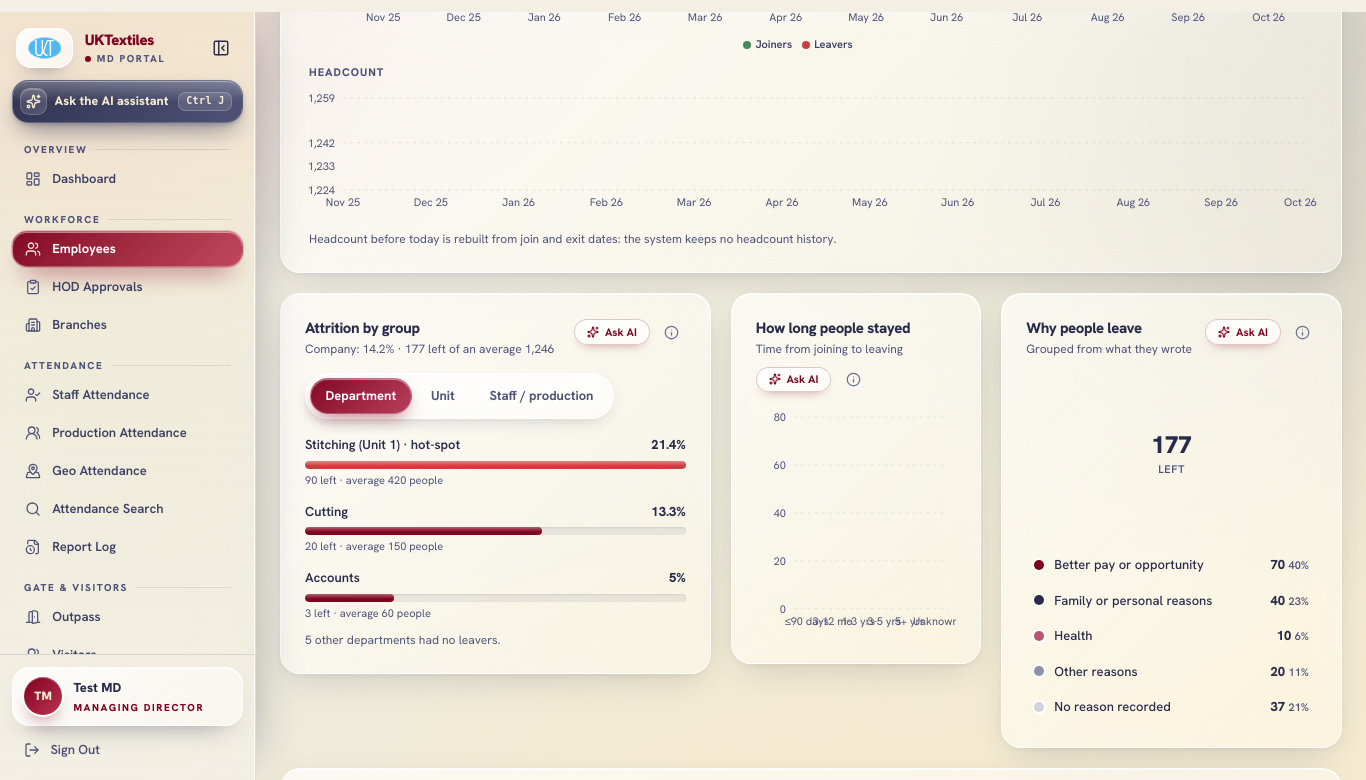
Test: MdEmployees › switches attrition between department, unit and staff/production
(page scrolled)
Click the tab "Unit".
click(443, 396)  # box [416, 378, 470, 414]
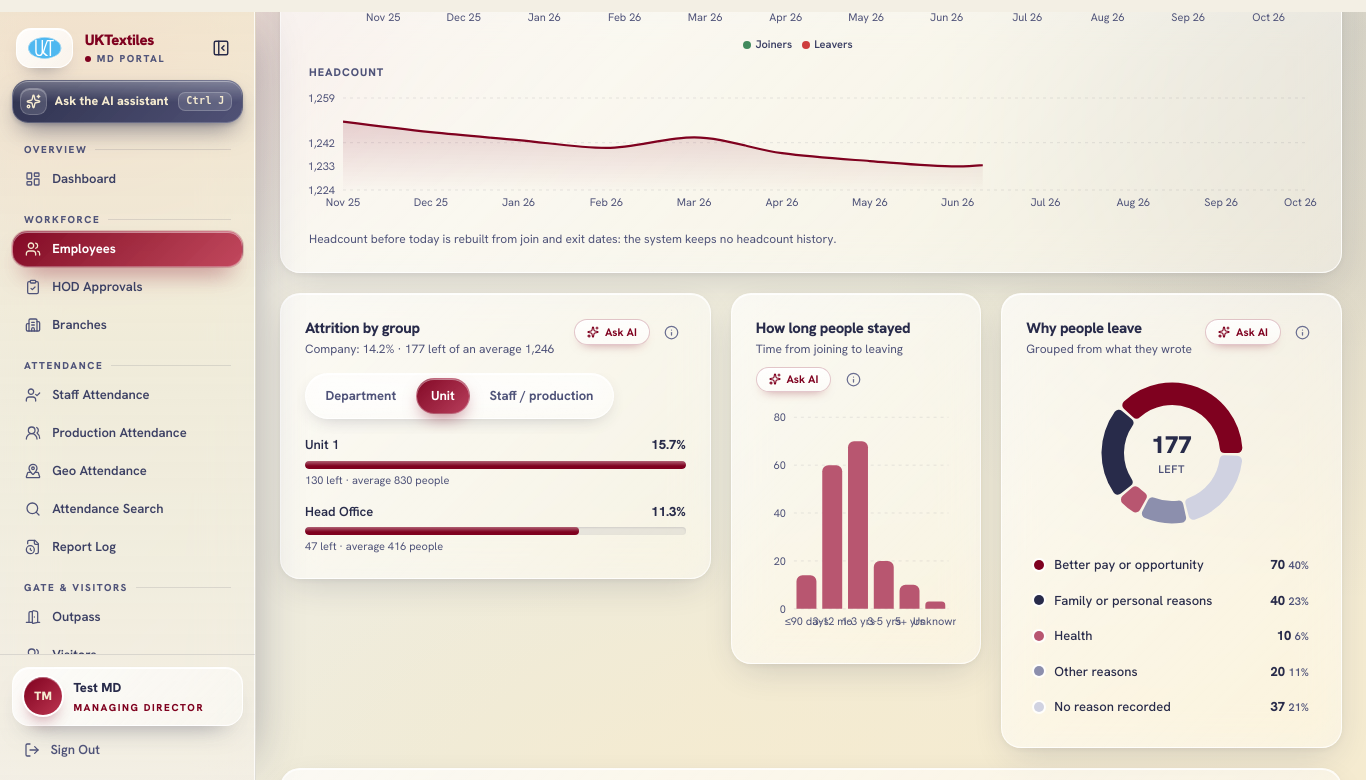
Result: the list with test id "md-employees-attrition-bars" shows "Head Office" at [305, 503, 373, 520]
Result: the text with test id "md-employees-attrition-bars" no longer shows "hot-spot"
Click the tab "Staff / production".
click(542, 396)  # box [474, 378, 609, 414]
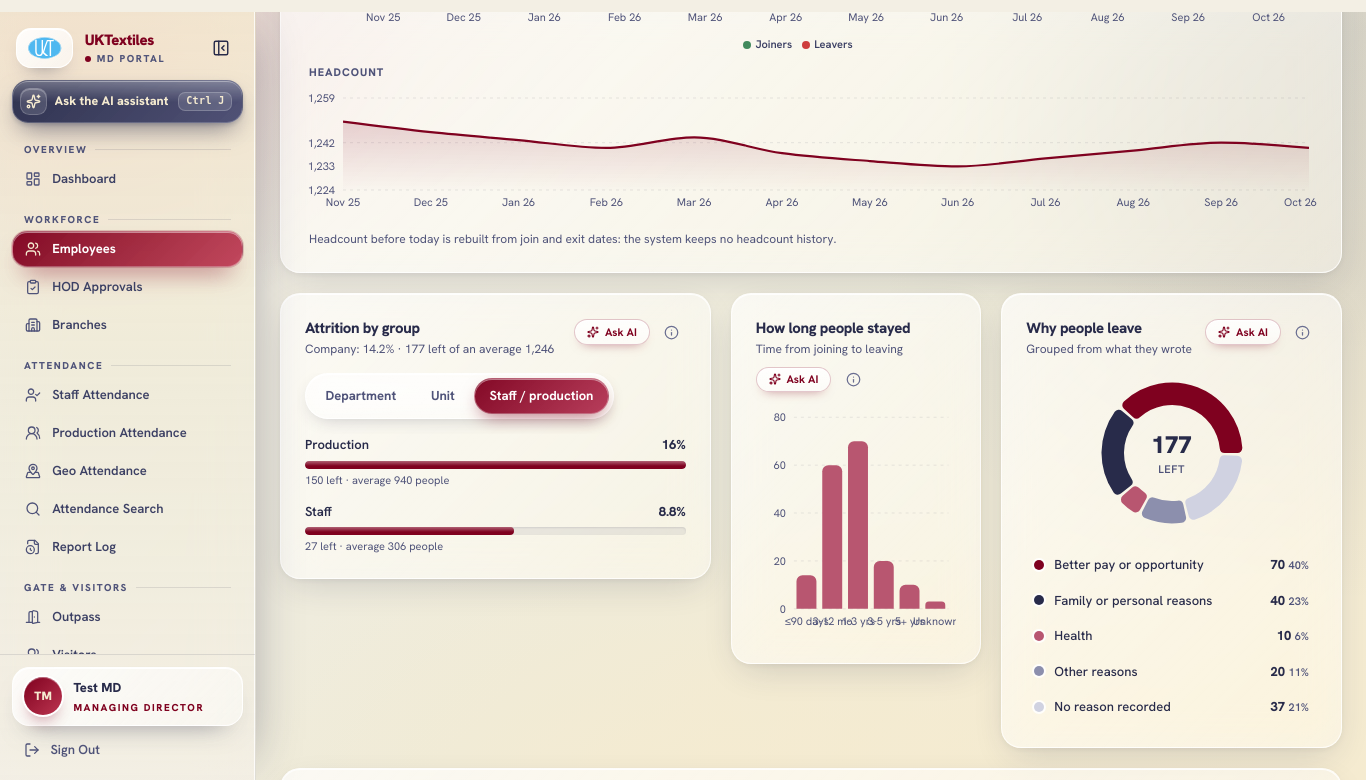
Result: the list with test id "md-employees-attrition-bars" shows "Production" at [305, 436, 369, 453]
Result: the list with test id "md-employees-attrition-bars" shows "16%" at [662, 436, 686, 453]
